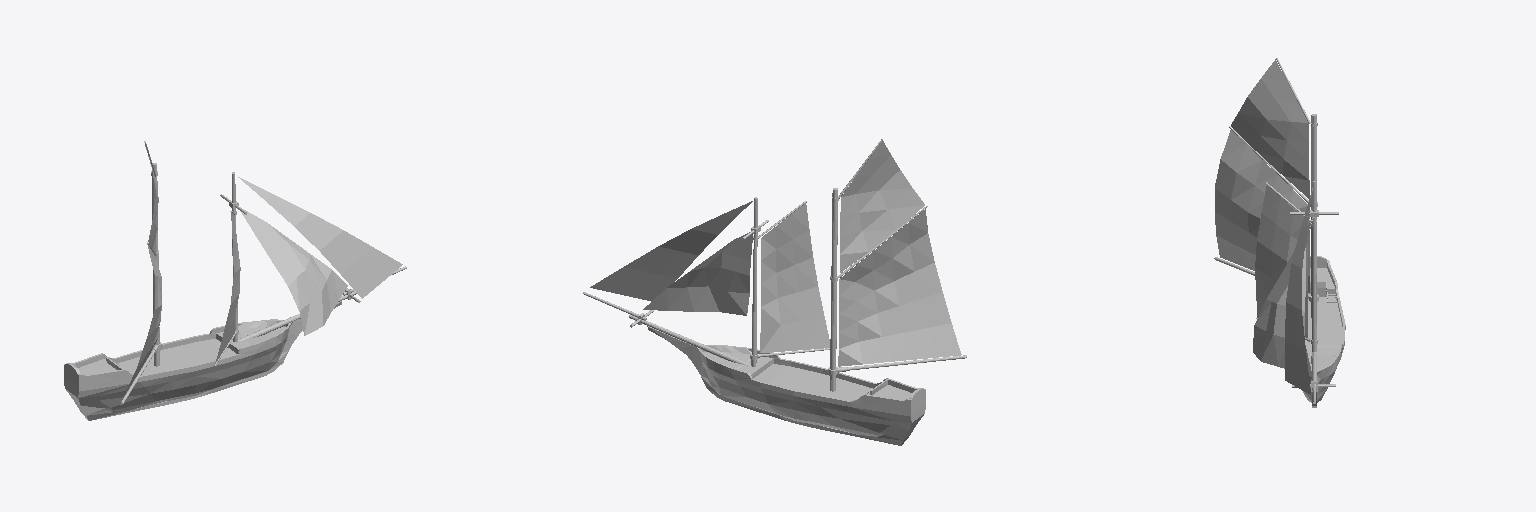
File: BootjeRB.obj
The picture shows the model from 3 angles: view 1: azimuth 30°, elevation 25°; view 2: azimuth 150°, elevation 25°; view 3: azimuth 270°, elevation 25°; orthographic projection.
Visible parts, largest first — view 1: Hull_Plane, Sails_Plane.001; view 2: Sails_Plane.001, Hull_Plane, Booms_Plane.002; view 3: Sails_Plane.001, Hull_Plane, Booms_Plane.002.
Part boxes in pixels (left/top/right/bottom): Hull_Plane: left=64, top=163, right=406, bottom=420; Sails_Plane.001: left=124, top=157, right=402, bottom=395; Sails_Plane.001: left=590, top=141, right=961, bottom=366; Hull_Plane: left=583, top=188, right=925, bottom=445; Booms_Plane.002: left=758, top=139, right=966, bottom=372; Sails_Plane.001: left=1215, top=59, right=1313, bottom=394; Hull_Plane: left=1290, top=114, right=1345, bottom=407; Booms_Plane.002: left=1214, top=58, right=1310, bottom=341.
Bounding box in the file's own units: 19.65 × 16.04 × 6.66.